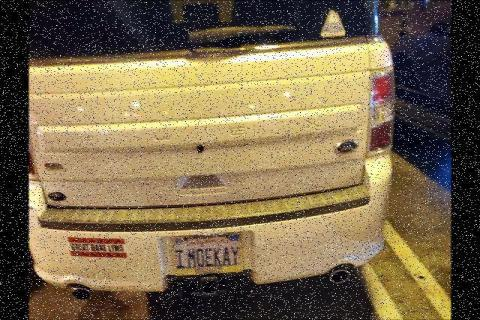LicensePlate: (163, 228, 251, 282)
